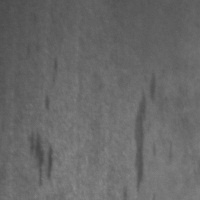inclusion: (132, 68, 163, 196), (24, 127, 61, 191), (39, 52, 64, 116)
